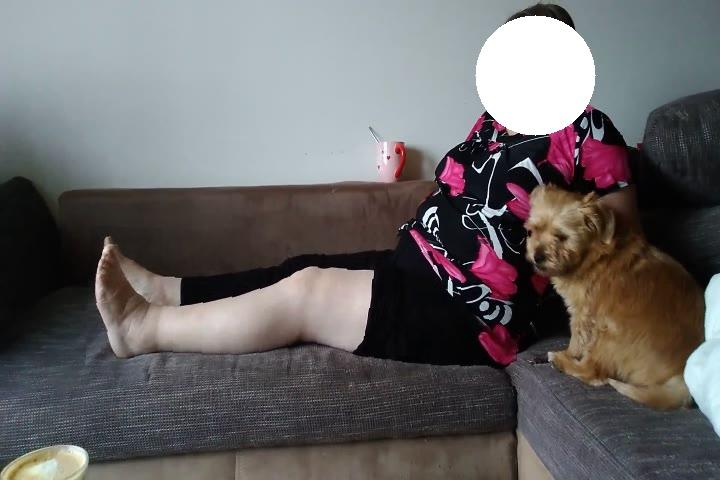lower_body: (87, 231, 520, 383)
